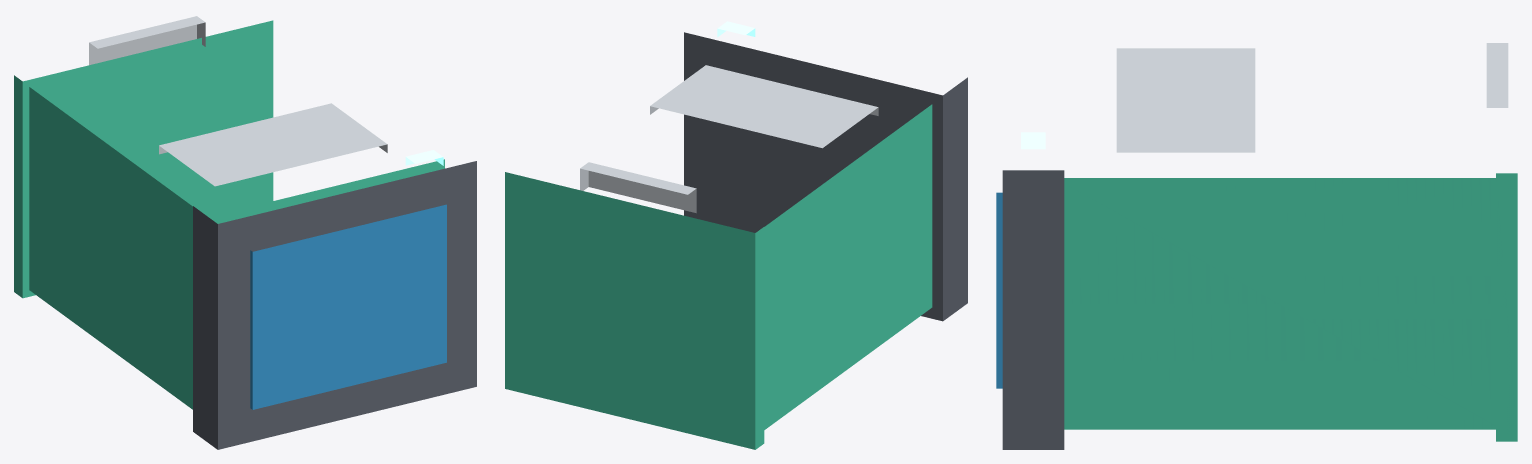
Rendered from bin.glb.
3 renders of one model, left to right at view 1: azimuth 30°, elevation 25°; view 2: azimuth 150°, elevation 25°; view 3: azimuth 270°, elevation 25°, orthographic. The views are drawn at different scales.
Parts seen in each view (by area): view 1: mesh_0, mesh_1, mesh_2, mesh_3; view 2: mesh_0, mesh_1, mesh_3; view 3: mesh_0, mesh_1, mesh_3, mesh_2.
Part boxes in pixels (x1,y1,x2,y2): mesh_0: (14, 20, 444, 409); mesh_1: (193, 161, 476, 449); mesh_2: (250, 204, 446, 409); mesh_3: (89, 16, 387, 186); mesh_0: (505, 104, 932, 449); mesh_1: (684, 32, 967, 321); mesh_3: (580, 65, 878, 213); mesh_0: (1064, 173, 1517, 441); mesh_1: (1002, 170, 1064, 449); mesh_3: (1116, 43, 1508, 152); mesh_2: (996, 192, 1002, 388).
Size of the model in its own units: 1.2 by 1.06 by 1.69.
